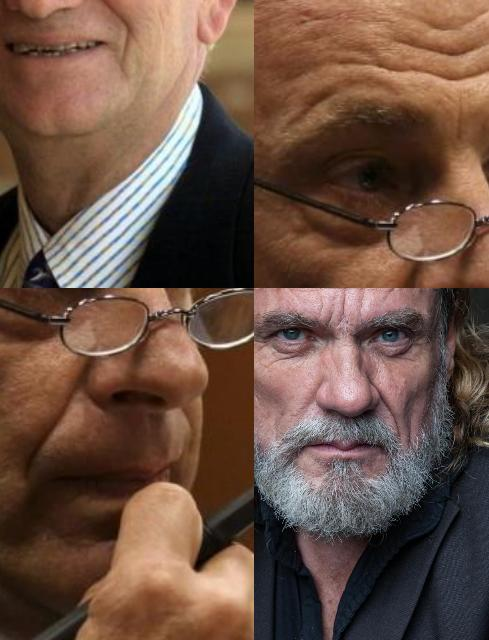crows_feet: (254, 331, 269, 355)
forehead: (372, 49, 442, 93), (386, 29, 462, 67), (284, 80, 334, 124), (412, 7, 462, 38), (458, 28, 489, 62), (449, 62, 489, 87), (278, 0, 336, 8)
frown_line: (336, 295, 356, 327), (319, 309, 339, 329)
gummy_smile: (20, 400, 60, 472), (369, 382, 401, 426), (85, 0, 133, 27)
sad_smile: (114, 32, 143, 88)
